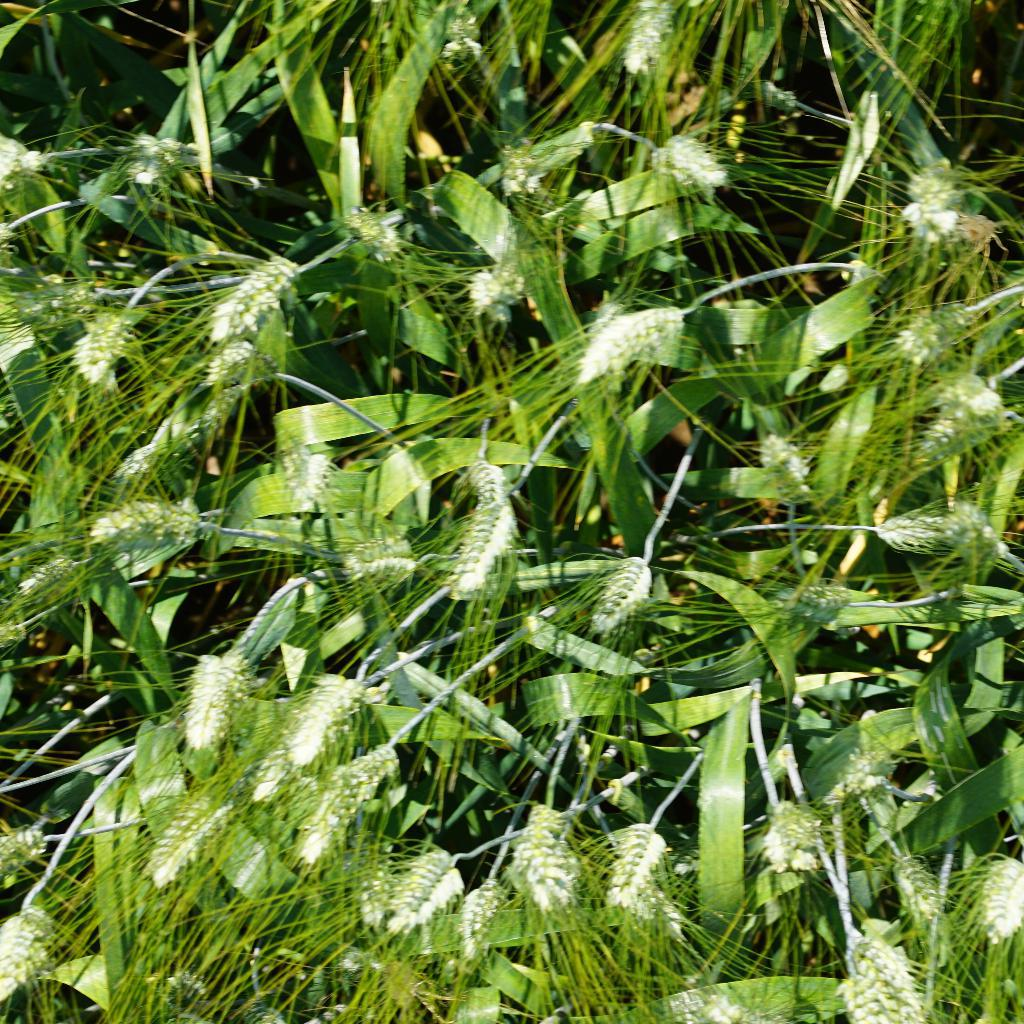0-0: (245, 653, 373, 805), (286, 735, 403, 876), (433, 475, 525, 610), (138, 783, 250, 888), (576, 294, 694, 393), (18, 430, 95, 571), (856, 487, 1002, 561), (504, 783, 585, 916), (195, 247, 300, 343), (164, 371, 268, 467), (901, 363, 1005, 458), (602, 806, 683, 925), (115, 404, 227, 485), (884, 847, 964, 960), (182, 639, 250, 763), (384, 833, 466, 935), (4, 273, 122, 343), (81, 496, 212, 559), (747, 785, 832, 882), (839, 931, 925, 1024), (889, 158, 978, 246), (581, 545, 654, 645), (61, 301, 138, 393), (442, 860, 505, 968), (960, 838, 1024, 944), (643, 132, 745, 196), (606, 0, 686, 81), (888, 292, 978, 363), (454, 252, 532, 327), (752, 429, 820, 515), (826, 955, 908, 1024), (0, 902, 47, 1015), (338, 529, 425, 590), (948, 490, 1017, 564), (275, 440, 346, 509), (114, 128, 191, 191), (774, 571, 858, 627), (418, 0, 487, 68), (139, 963, 217, 1021), (834, 736, 897, 806), (339, 200, 406, 265), (0, 814, 62, 881), (331, 939, 403, 996), (12, 549, 88, 602), (195, 336, 258, 396), (692, 988, 781, 1023), (493, 137, 546, 193), (459, 455, 511, 509), (743, 72, 803, 116)
